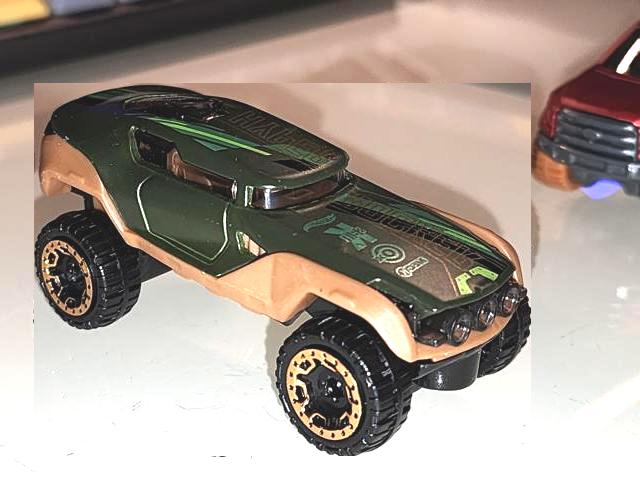toy-car: (34, 83, 531, 456), (530, 17, 640, 197)
